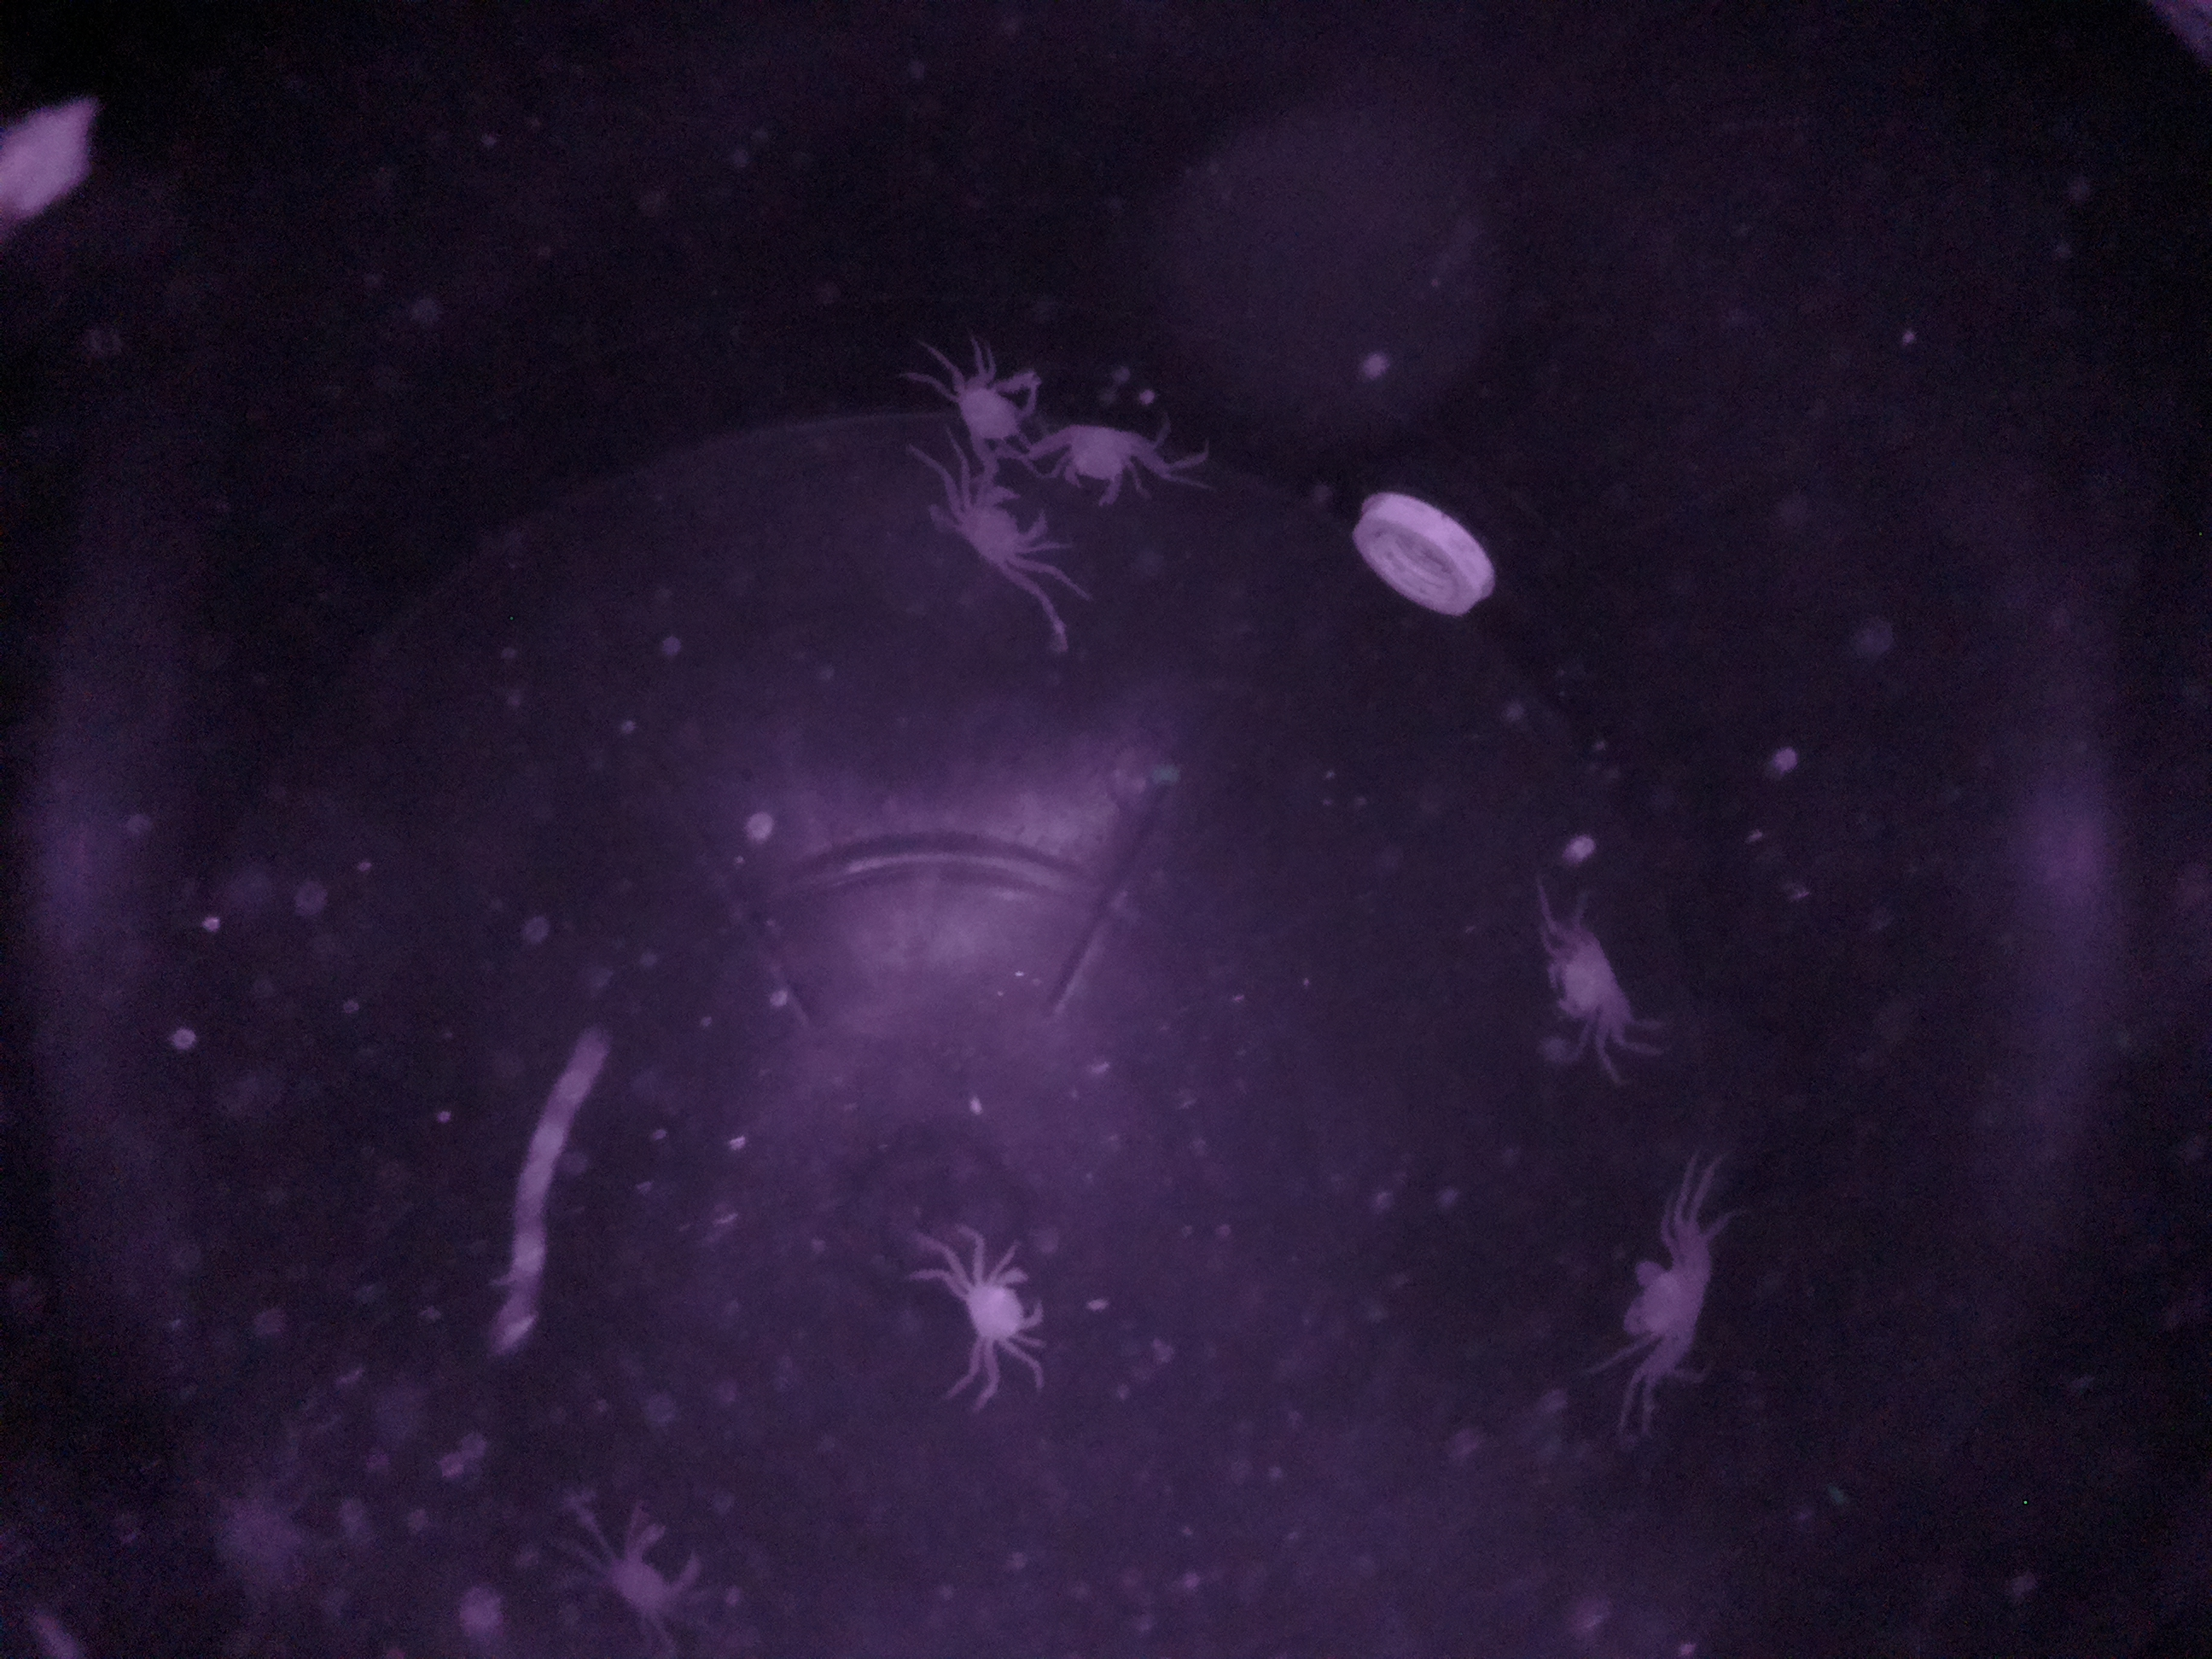Crab: (1526, 903, 1651, 1056), (1601, 1237, 1738, 1364), (941, 472, 1062, 613), (948, 1230, 1054, 1382)
